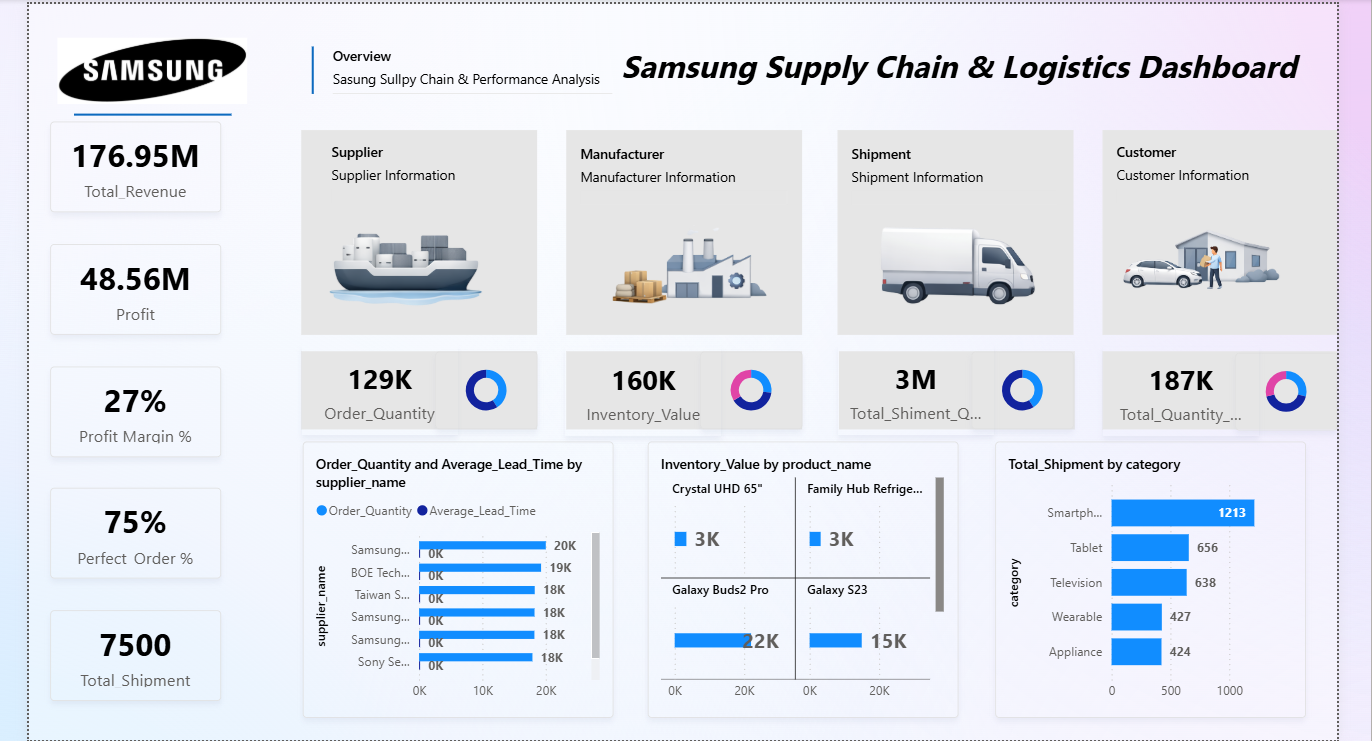

The page's visual inventory and layout, read from the dashboard file:
{"tool":"powerbi","page":{"name":"Page 1","canvas":[1280,720],"ordinal":0},"visuals":[{"type":"shape","box":[1050,124,230.2,199.9],"z":0},{"type":"shape","box":[526.3,124,230.2,199.9],"z":1000},{"type":"shape","box":[790.7,124,230.2,199.9],"z":2000},{"type":"shape","box":[266.9,124,230.2,199.9],"z":3000},{"type":"image","box":[277.1,187.2,174.6,127.8],"z":4000},{"type":"image","box":[554.1,177.1,173.3,149.3],"z":5000},{"type":"image","box":[819.8,174.6,173.3,149.3],"z":6000},{"type":"image","box":[1063.9,178.4,173.3,137.9],"z":7000},{"type":"shape","title":"Supplier","box":[296,135.4,201.1,59.5],"z":8000},{"type":"shape","title":"Customer","box":[1063.9,135.4,201.1,59.5],"z":9000},{"type":"shape","title":"Shipment","box":[804.6,136.6,201.1,59.5],"z":10000},{"type":"shape","title":"Manufacturer","box":[538.9,136.6,202.4,59.5],"z":11000},{"type":"shape","title":"Overview","box":[297.1,41.6,273.9,46.5],"z":12000},{"type":"shape","box":[247,41.6,61.1,46.5],"z":13000},{"type":"image","box":[11,33,218.9,64.8],"z":14000},{"type":"card","fields":{"Values":["MeasuresTable.Total_Revenue"]},"box":[20.2,115.1,167,88.6],"z":15000},{"type":"card","fields":{"Values":["MeasuresTable.Profit"]},"box":[20.2,234.7,167,88.6],"z":16000},{"type":"card","fields":{"Values":["MeasuresTable.Total_Shipment"]},"box":[20.2,593.3,167,88.6],"z":17000},{"type":"card","fields":{"Values":["MeasuresTable.Perfect_Order %"]},"box":[20.2,473.8,167,88.6],"z":18000},{"type":"card","fields":{"Values":["MeasuresTable.Profit Margin %"]},"box":[20.2,354.2,167,88.6],"z":19000},{"type":"shape","box":[44,97.8,154.1,20.8],"z":20000},{"type":"shape","box":[266.9,340.3,230.2,75.9],"z":21000},{"type":"shape","box":[1050,340.3,230.2,75.9],"z":22000},{"type":"shape","box":[791.9,340.3,230.2,75.9],"z":23000},{"type":"shape","box":[526.3,340.3,230.2,75.9],"z":24000},{"type":"clusteredBarChart","fields":{"Y":["MeasuresTable.Order_Quantity","MeasuresTable.Average_Lead_Time"],"Category":["dim_supplier.supplier_name"]},"box":[268.2,427.6,303.6,270.7],"z":25000},{"type":"clusteredBarChart","fields":{"Y":["MeasuresTable.Inventory_Value"],"Rows":["dim_product.product_name"]},"box":[604.7,427.6,303.6,270.7],"z":26000},{"type":"clusteredBarChart","fields":{"Y":["MeasuresTable.Total_Shipment"],"Category":["dim_product.category"]},"box":[945,427.6,303.6,270.7],"z":27000},{"type":"donutChart","fields":{"Y":["Sum(fact_procurement.order_quantity)","MeasuresTable.Total_Quantity_Delevered"]},"box":[397.2,340.3,99.9,75.9],"z":28000},{"type":"donutChart","fields":{"Y":["Sum(fact_procurement.order_quantity)","MeasuresTable.Total_Quantity_Delevered","MeasuresTable.Order_Quantity"]},"box":[1180.3,341.6,99.9,75.9],"z":29000},{"type":"donutChart","fields":{"Y":["Sum(fact_procurement.order_quantity)","MeasuresTable.Total_Quantity_Delevered"]},"box":[922.2,340.3,99.9,75.9],"z":30000},{"type":"donutChart","fields":{"Y":["Sum(fact_procurement.order_quantity)","MeasuresTable.Total_Quantity_Delevered","MeasuresTable.Inventory_Value"]},"box":[656.6,340.3,99.9,75.9],"z":31000},{"type":"card","fields":{"Values":["MeasuresTable.Order_Quantity"]},"box":[266.6,333.8,152.9,88],"z":32000},{"type":"card","fields":{"Values":["MeasuresTable.Inventory_Value"]},"box":[524.6,335.1,152.9,88],"z":33000},{"type":"card","fields":{"Values":["MeasuresTable.Total_Shiment_Quantity"]},"box":[791.2,333.8,152.9,88],"z":34000},{"type":"card","fields":{"Values":["MeasuresTable.Total_Quantity_Delevered"]},"box":[1050.4,335.1,152.9,88],"z":35000},{"type":"shape","title":"Samsung Supply Chain & Logistics Dashboard","box":[571.1,39.1,677.4,79.5],"z":36000}]}

Visuals, with their boxes in screenshot pixels (x1, y1, x2, y2):
shape: region(1196, 76, 1371, 278)
shape: region(665, 76, 899, 278)
shape: region(933, 76, 1166, 278)
shape: region(403, 76, 636, 278)
image: region(413, 140, 590, 269)
image: region(694, 129, 869, 281)
image: region(963, 127, 1138, 278)
image: region(1210, 131, 1371, 270)
"Supplier" shape: region(432, 87, 636, 147)
"Customer" shape: region(1210, 87, 1371, 147)
"Shipment" shape: region(947, 88, 1151, 149)
"Manufacturer" shape: region(678, 88, 883, 149)
"Overview" shape: region(433, 0, 711, 39)
shape: region(382, 0, 444, 39)
image: region(143, 0, 365, 49)
card - MeasuresTable.Total_Revenue: region(153, 67, 322, 156)
card - MeasuresTable.Profit: region(153, 188, 322, 277)
card - MeasuresTable.Total_Shipment: region(153, 551, 322, 641)
card - MeasuresTable.Perfect_Order %: region(153, 430, 322, 520)
card - MeasuresTable.Profit Margin %: region(153, 309, 322, 399)
shape: region(177, 49, 333, 70)
shape: region(403, 295, 636, 372)
shape: region(1196, 295, 1371, 372)
shape: region(934, 295, 1168, 372)
shape: region(665, 295, 899, 372)
clusteredBarChart - MeasuresTable.Order_Quantity x MeasuresTable.Average_Lead_Time: region(404, 383, 711, 657)
clusteredBarChart - MeasuresTable.Inventory_Value x dim_product.product_name: region(745, 383, 1052, 657)
clusteredBarChart - MeasuresTable.Total_Shipment x dim_product.category: region(1089, 383, 1371, 657)
donutChart - Sum(fact_procurement.order_quantity) x MeasuresTable.Total_Quantity_Delevered: region(535, 295, 636, 372)
donutChart - Sum(fact_procurement.order_quantity) x MeasuresTable.Total_Quantity_Delevered: region(1328, 296, 1371, 373)
donutChart - Sum(fact_procurement.order_quantity) x MeasuresTable.Total_Quantity_Delevered: region(1066, 295, 1168, 372)
donutChart - Sum(fact_procurement.order_quantity) x MeasuresTable.Total_Quantity_Delevered: region(797, 295, 899, 372)
card - MeasuresTable.Order_Quantity: region(402, 288, 557, 377)
card - MeasuresTable.Inventory_Value: region(664, 289, 819, 379)
card - MeasuresTable.Total_Shiment_Quantity: region(934, 288, 1089, 377)
card - MeasuresTable.Total_Quantity_Delevered: region(1196, 289, 1351, 379)
"Samsung Supply Chain & Logistics Dashboard" shape: region(711, 0, 1371, 70)
